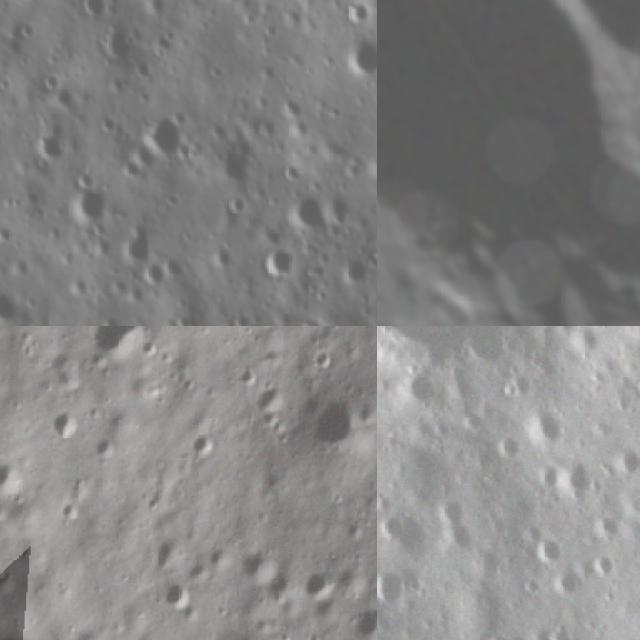crater: (377, 0, 640, 326), (377, 326, 635, 440), (308, 388, 375, 463), (542, 454, 610, 523), (514, 398, 578, 463), (377, 554, 424, 620), (432, 514, 488, 569), (398, 365, 452, 421), (78, 326, 150, 367), (140, 110, 192, 164), (232, 536, 283, 590), (68, 182, 120, 234), (544, 565, 594, 616), (207, 139, 255, 190), (484, 425, 530, 472), (35, 129, 83, 172), (287, 194, 336, 236), (121, 222, 161, 273), (428, 489, 473, 534), (296, 564, 341, 608), (528, 532, 572, 577), (155, 574, 199, 618), (258, 242, 300, 288), (377, 507, 416, 553), (250, 380, 292, 422), (584, 548, 626, 589), (0, 448, 33, 499), (97, 22, 137, 64), (607, 436, 640, 485), (258, 564, 298, 602), (338, 249, 372, 292), (346, 38, 377, 84), (48, 404, 83, 444), (56, 492, 90, 530), (347, 597, 377, 640), (187, 427, 222, 461), (307, 339, 339, 375), (76, 0, 120, 25), (137, 333, 166, 369), (114, 625, 183, 640), (342, 0, 377, 29), (88, 432, 121, 462), (0, 285, 24, 326), (473, 623, 524, 640), (228, 191, 252, 222), (629, 362, 640, 416), (20, 19, 42, 45)
